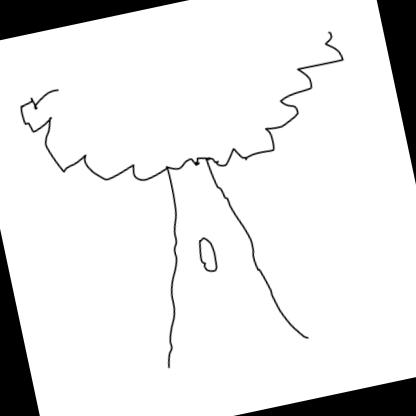crown_cloud: (15, 24, 362, 203)
knot: (196, 235, 219, 272)
trunk_straight: (136, 180, 290, 350)
